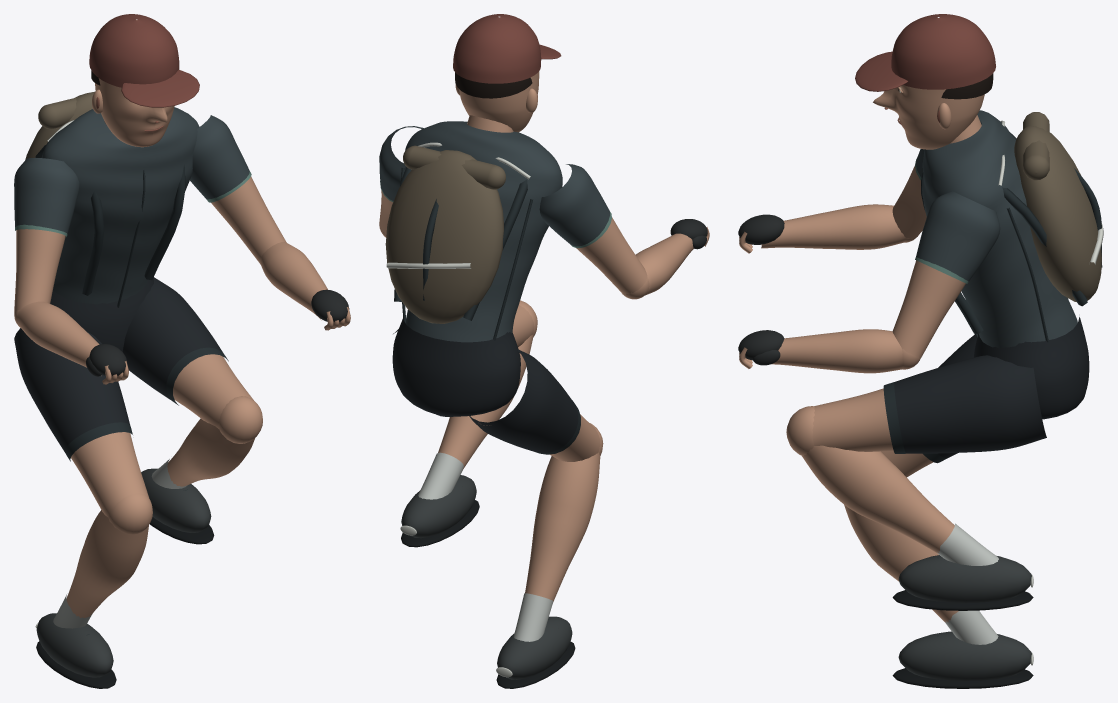
The model's file is courier-cap.glb.
3 views of the same model, side by side, from view 1: azimuth 30°, elevation 25°; view 2: azimuth 150°, elevation 25°; view 3: azimuth 270°, elevation 25° (orthographic). The views are drawn at different scales.
Parts seen in each view (by area): view 1: rider-torso, thigh-left, rider-head, thigh-right, upper-arm-left, upper-arm-right, shin-left, foot-left, shin-right, foot-right, forearm-left, anatomical-bicycle-courier (+5 smaller); view 2: rider-torso, anatomical-bicycle-courier, rider-head, shin-left, thigh-left, upper-arm-left, foot-left, shin-right, foot-right, forearm-left, upper-arm-right, hand-left (+1 smaller); view 3: rider-torso, thigh-right, rider-head, upper-arm-right, shin-right, foot-left, foot-right, anatomical-bicycle-courier, forearm-left, forearm-right, shin-left, upper-arm-left (+4 smaller).
Boxes of the visible parts, box(x1,y1,x2,y2) form: rider-torso: box(25, 91, 199, 307); thigh-left: box(14, 328, 148, 516); rider-head: box(89, 14, 199, 147); thigh-right: box(123, 277, 253, 428); upper-arm-left: box(14, 157, 79, 311); upper-arm-right: box(190, 115, 286, 263); shin-left: box(53, 510, 148, 628); foot-left: box(35, 613, 116, 688); shin-right: box(151, 418, 254, 488); foot-right: box(141, 468, 214, 544); forearm-left: box(17, 301, 101, 375); anatomical-bicycle-courier: box(50, 278, 153, 351); rider-torso: box(385, 115, 562, 342); anatomical-bicycle-courier: box(392, 318, 520, 416); rider-head: box(453, 14, 561, 132); shin-left: box(513, 452, 600, 641); thigh-left: box(469, 350, 600, 461); upper-arm-left: box(539, 164, 647, 294); foot-left: box(496, 616, 575, 688); shin-right: box(418, 334, 533, 499); foot-right: box(400, 475, 479, 547); forearm-left: box(635, 233, 693, 295); upper-arm-right: box(379, 126, 423, 234); hand-left: box(670, 219, 709, 249); rider-torso: box(921, 110, 1103, 348); thigh-right: box(812, 355, 1046, 453); rider-head: box(855, 14, 995, 149); upper-arm-right: box(892, 191, 1000, 358); shin-right: box(802, 445, 998, 565); foot-left: box(892, 631, 1033, 688); foot-right: box(892, 555, 1033, 610); anatomical-bicycle-courier: box(974, 317, 1089, 419); forearm-left: box(761, 204, 905, 249); forearm-right: box(771, 329, 902, 373); shin-left: box(844, 504, 998, 644); upper-arm-left: box(892, 149, 926, 238).
Bounding box in the file's own units: 0.6252 × 1.39 × 0.6676.
